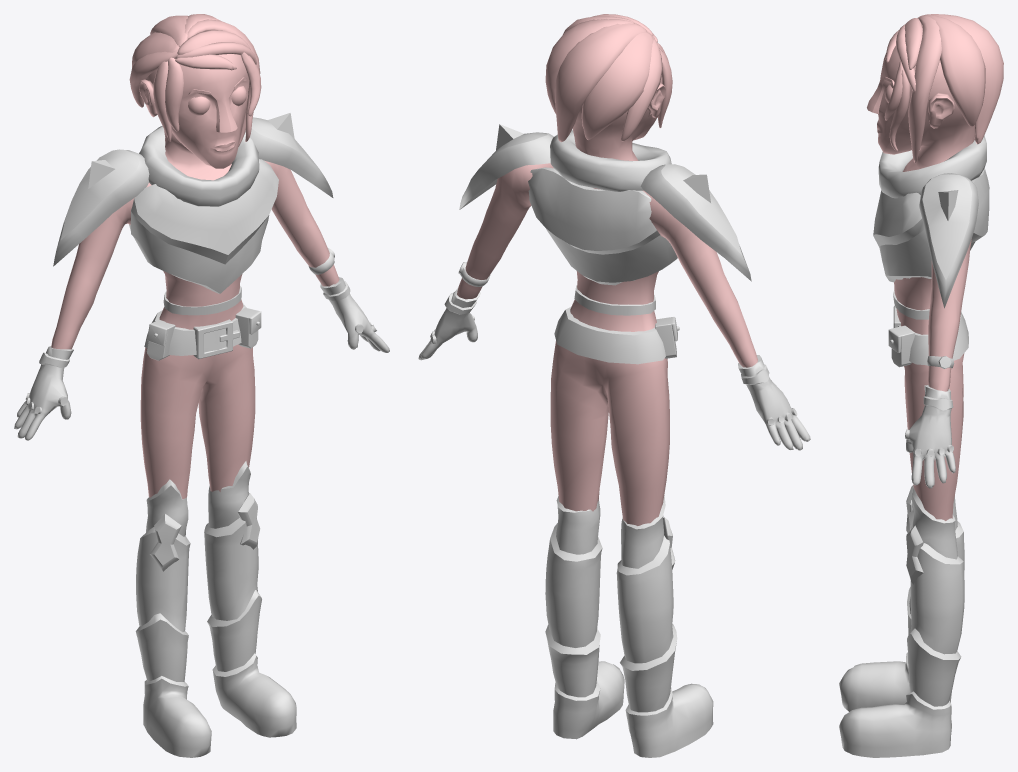
Rendered from ReyRetopologized.fbx.
3 renders of one model, left to right at view 1: azimuth 30°, elevation 25°; view 2: azimuth 150°, elevation 25°; view 3: azimuth 270°, elevation 25°, orthographic. The views are drawn at different scales.
Parts seen in each view (by area): view 1: Body, Boots, Chestplate, Hair1, Shoulders, Gloves, Scarf1, Kneecaps, Belt, Buckle, PocketB, PocketA (+1 smaller); view 2: Body, Boots, Hair1, Chestplate, Shoulders, Gloves, Scarf1, Belt, Strap, PocketB; view 3: Boots, Body, Hair1, Shoulders, Chestplate, Gloves, Scarf1, Belt, Kneecaps, PocketA, Strap, Watch.
Part boxes in pixels (x1,y1,x2,y2): Body: (51, 54, 339, 499); Boots: (135, 461, 296, 757); Chestplate: (129, 159, 278, 293); Hair1: (129, 14, 261, 146); Shoulders: (53, 113, 333, 266); Gloves: (14, 277, 389, 440); Scarf1: (139, 126, 259, 206); Kneecaps: (150, 493, 260, 571); Belt: (144, 303, 246, 355); Buckle: (193, 319, 239, 359); PocketB: (146, 319, 175, 360); PocketA: (235, 307, 261, 348); Body: (457, 75, 757, 525); Boots: (545, 495, 713, 757); Hair1: (545, 14, 672, 142); Chestplate: (528, 167, 677, 285); Shoulders: (459, 124, 751, 281); Gloves: (418, 287, 810, 450); Scarf1: (550, 130, 671, 191); Belt: (554, 307, 665, 364); Strap: (574, 285, 655, 315); PocketB: (655, 317, 679, 358); Boots: (839, 488, 964, 757); Body: (867, 25, 974, 520); Hair1: (884, 14, 1003, 163); Shoulders: (919, 173, 978, 308); Chestplate: (873, 168, 989, 282); Gloves: (905, 385, 955, 488); Scarf1: (878, 135, 986, 198); Belt: (898, 312, 968, 365); Kneecaps: (906, 485, 923, 584); PocketA: (888, 325, 914, 367); Strap: (893, 290, 929, 319); Watch: (927, 356, 954, 368).
Size of the model in its own units: 5.16 by 9.42 by 1.98.
